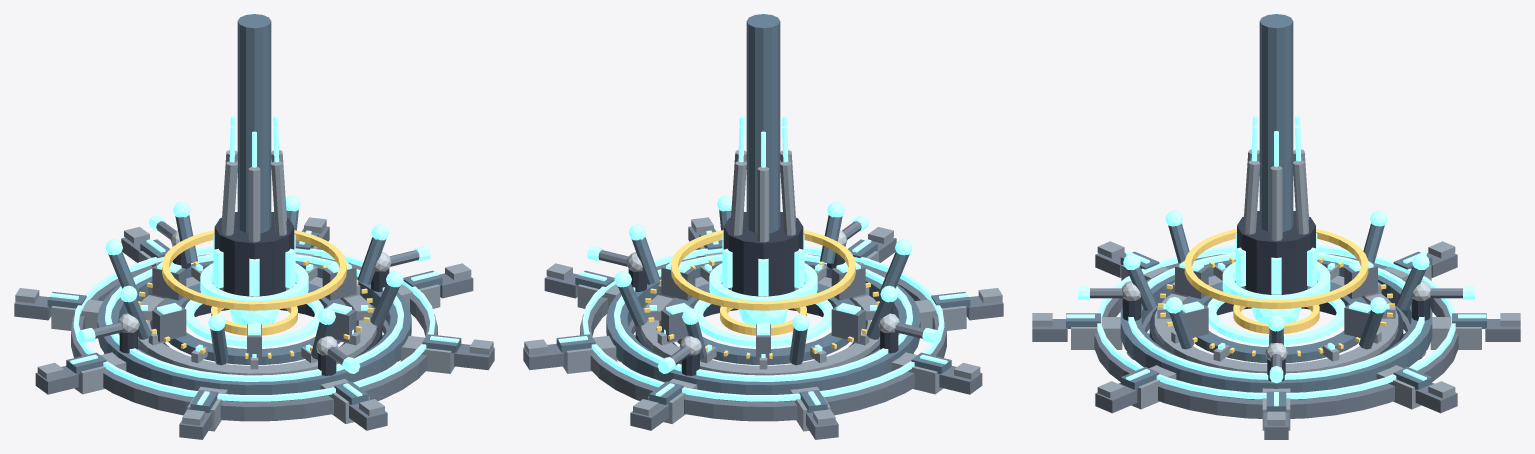
File: relay_3_neutral.glb
The picture shows the model from 3 angles, left to right: view 1: azimuth 30°, elevation 25°; view 2: azimuth 150°, elevation 25°; view 3: azimuth 270°, elevation 25°; orthographic projection.
Visible parts, largest first — view 1: RLY_2, RLY_3, RLY_4, RLY_1, RLY_0, RLY_5, RLY_6; view 2: RLY_2, RLY_3, RLY_4, RLY_1, RLY_0, RLY_5, RLY_6; view 3: RLY_2, RLY_3, RLY_1, RLY_4, RLY_0, RLY_5, RLY_6.
Boxes of the visible parts, bbox=[...] form: RLY_2: bbox=[47, 14, 461, 412]; RLY_3: bbox=[49, 116, 459, 405]; RLY_4: bbox=[14, 221, 494, 439]; RLY_1: bbox=[15, 150, 493, 431]; RLY_0: bbox=[119, 212, 389, 375]; RLY_5: bbox=[138, 230, 373, 358]; RLY_6: bbox=[118, 230, 391, 355]; RLY_2: bbox=[556, 14, 970, 412]; RLY_3: bbox=[558, 116, 968, 405]; RLY_4: bbox=[523, 221, 1003, 439]; RLY_1: bbox=[524, 150, 1002, 431]; RLY_0: bbox=[628, 212, 898, 375]; RLY_5: bbox=[644, 230, 879, 358]; RLY_6: bbox=[626, 230, 899, 355]; RLY_2: bbox=[1066, 14, 1486, 412]; RLY_3: bbox=[1066, 115, 1486, 406]; RLY_1: bbox=[1032, 149, 1520, 430]; RLY_4: bbox=[1032, 253, 1520, 439]; RLY_0: bbox=[1122, 211, 1430, 381]; RLY_5: bbox=[1158, 229, 1394, 356]; RLY_6: bbox=[1122, 281, 1430, 360].
Size of the model in its own units: 10.48 by 8.01 by 10.48.
